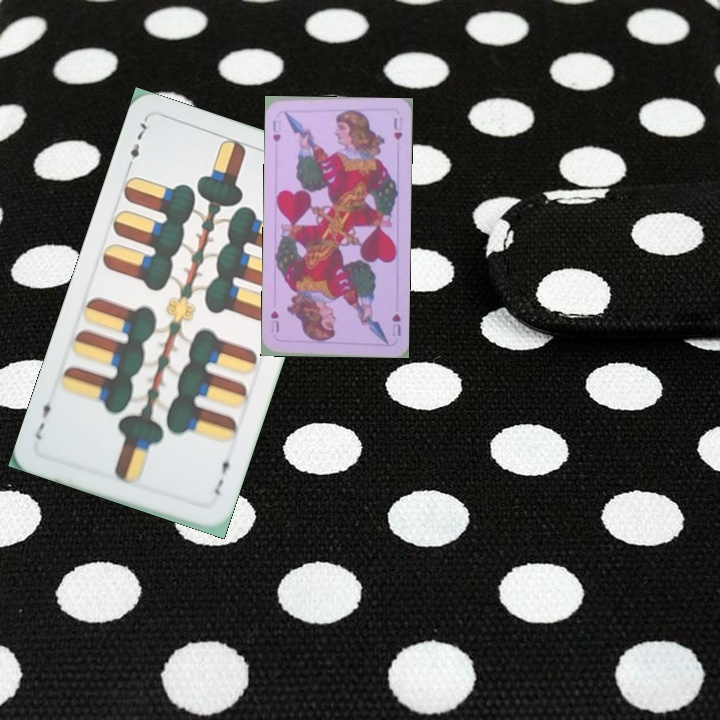E7: (122, 116, 150, 173), (210, 451, 235, 498)
HU: (388, 309, 403, 339), (269, 116, 283, 145)
